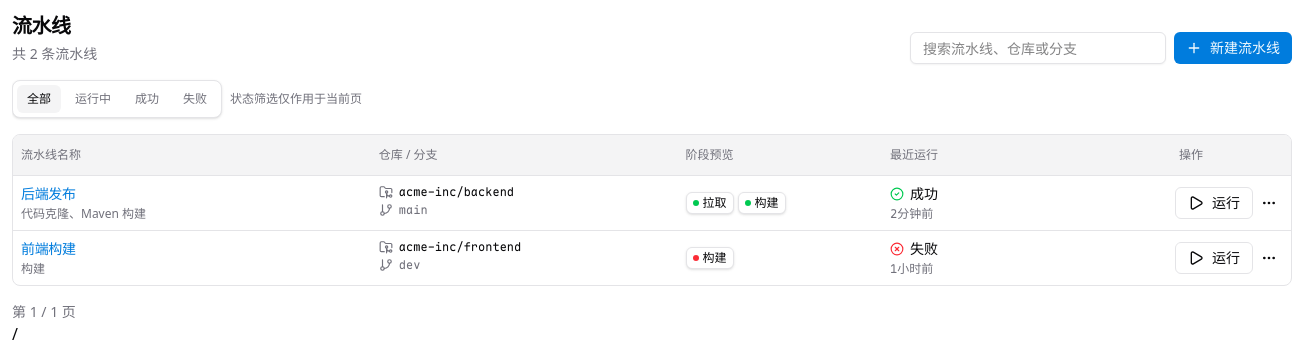
Test case: PipelineListPage › TC-UX08-03: clicking run starts a run instead of opening the pipeline row
This screenshot has width=1292, height=361.
Click the button "运行" in the row of "后端发布" at x=1214, y=202, box left=1175, top=186, right=1253, bottom=218
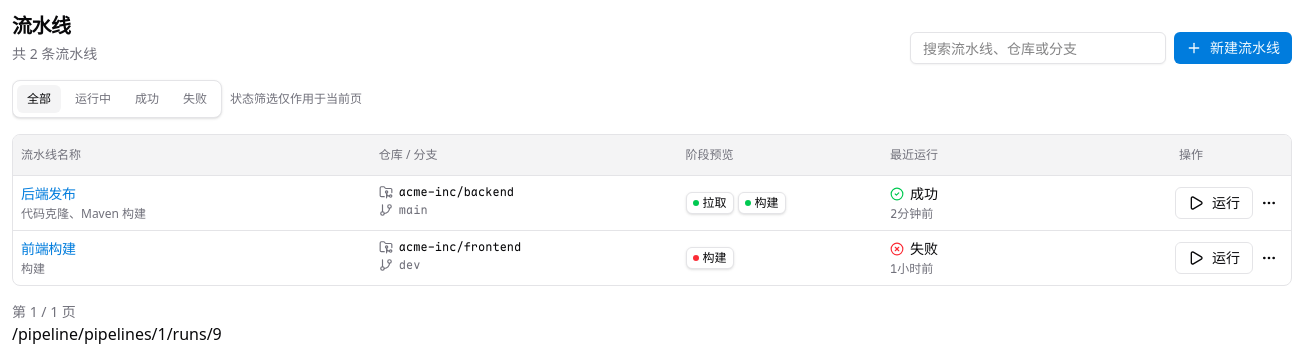
Result: the text with test id "location" reads "/pipeline/pipelines/1/runs/9" at left=12, top=322, right=222, bottom=344
